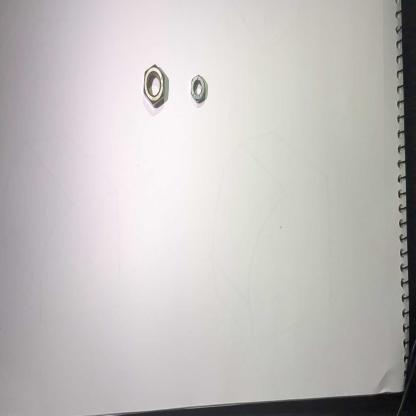NUTS: (139, 56, 171, 109), (189, 69, 209, 107)
